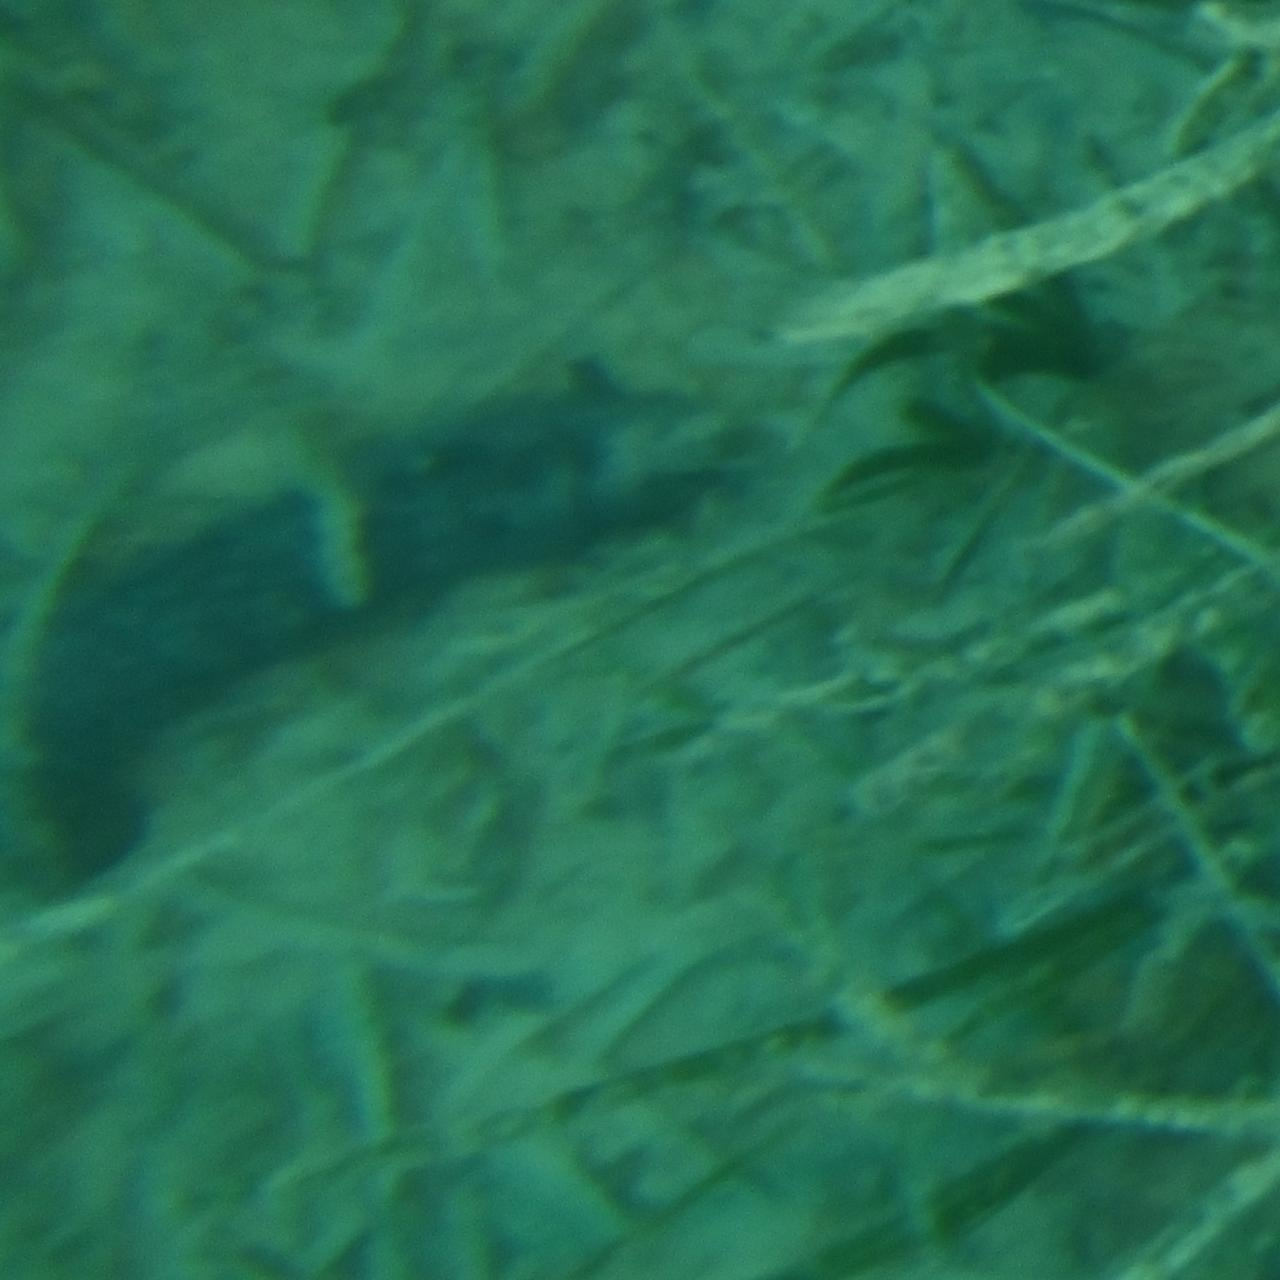Holothuria tubulosa: (2, 384, 743, 896)
